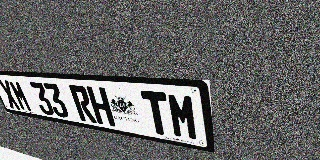3: (43, 83, 70, 119), (29, 82, 56, 116)
H: (86, 86, 116, 127)
M: (166, 92, 199, 141), (8, 80, 33, 112)
R: (68, 85, 97, 123)
T: (140, 90, 172, 137)
X: (0, 79, 21, 110)
